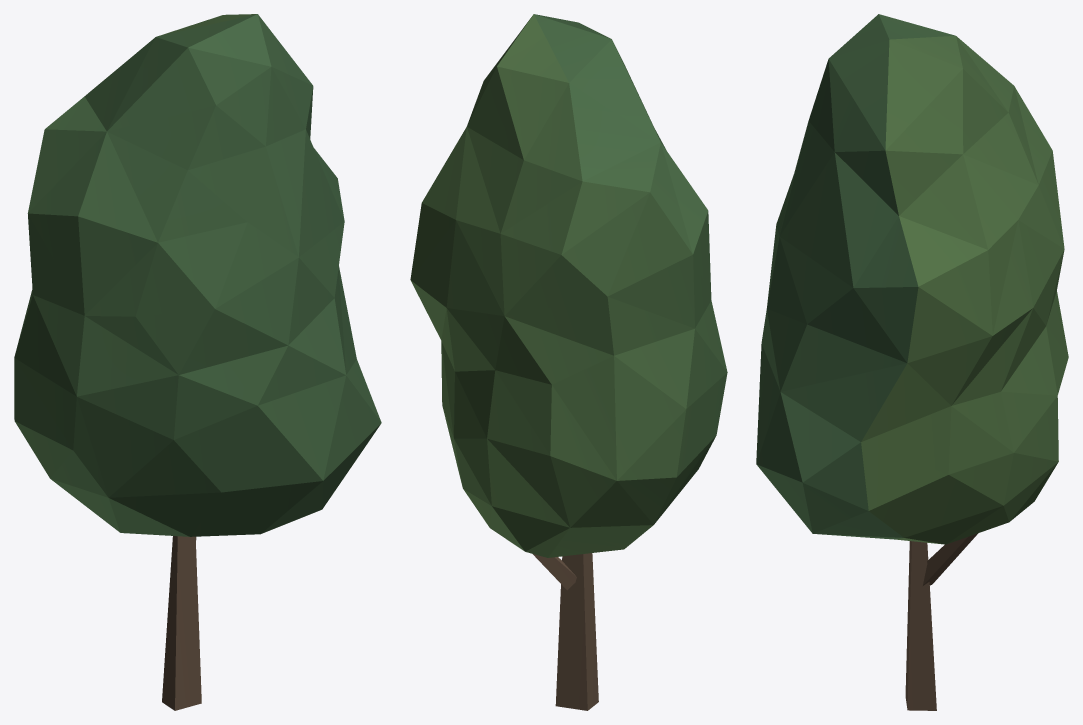
Rendered from tree.glb.
The picture shows the model from 3 angles, left to right: view 1: azimuth 30°, elevation 25°; view 2: azimuth 150°, elevation 25°; view 3: azimuth 270°, elevation 25°; orthographic projection. The views are drawn at different scales.
Parts seen in each view (by area): view 1: tree-beech; view 2: tree-beech; view 3: tree-beech.
Part boxes in pixels (bbox=[...]): tree-beech: bbox=[14, 14, 381, 710]; tree-beech: bbox=[410, 14, 727, 710]; tree-beech: bbox=[756, 14, 1068, 710].
Size of the model in its own units: 3.6 by 8 by 3.26.
Materials: 1 (1 with a texture image).
